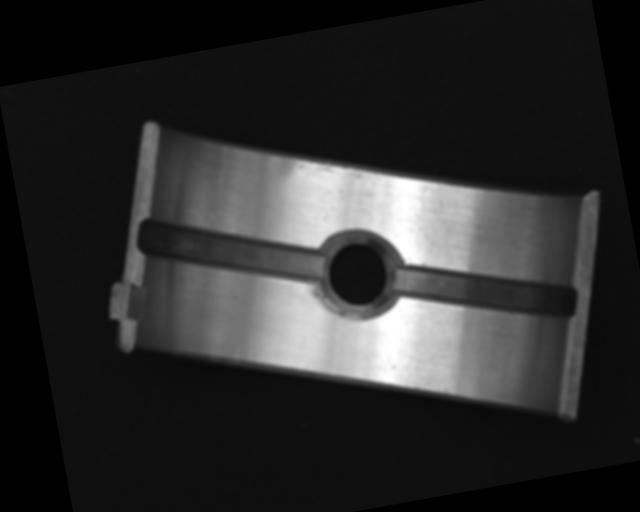gap: (140, 192, 326, 311), (394, 236, 582, 346)
hole: (309, 222, 409, 327)
